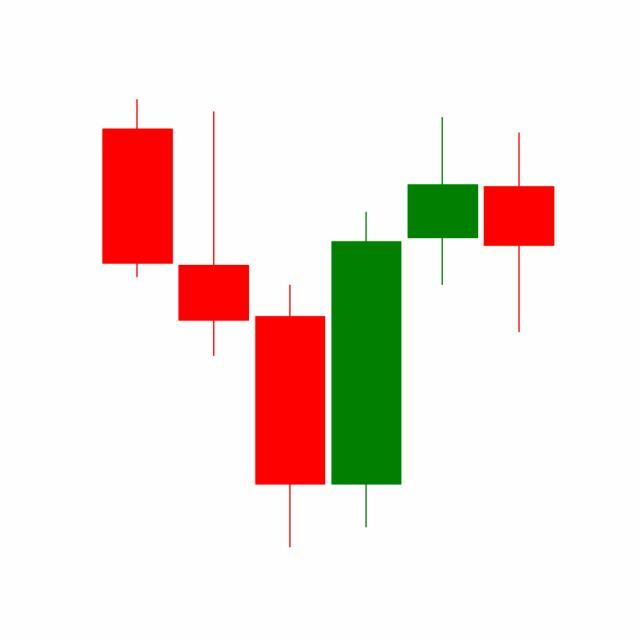Upside-Downside Gap Three Methods: (326, 112, 555, 533)
